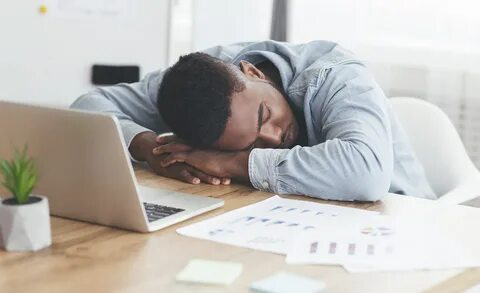sleep: (69, 39, 397, 204)
